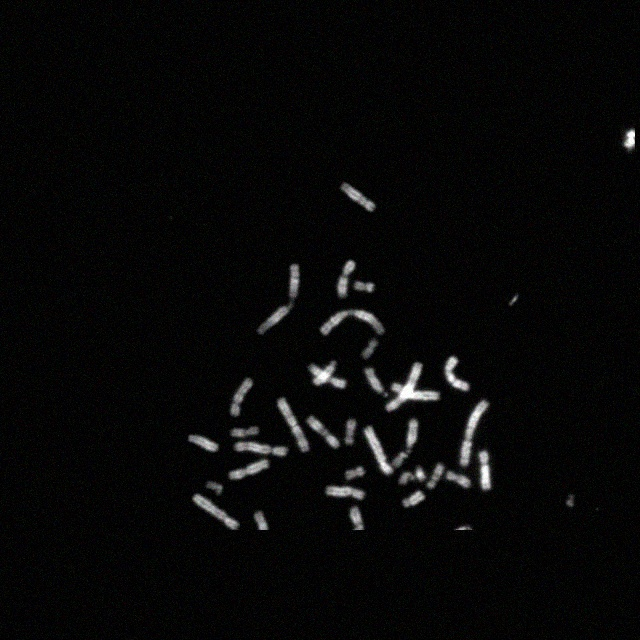chromosome: (257, 264, 298, 336), (459, 399, 489, 467), (189, 493, 239, 533), (320, 308, 384, 338), (386, 360, 422, 412), (278, 398, 308, 452), (364, 426, 394, 476), (392, 419, 420, 468), (306, 414, 340, 450), (342, 181, 376, 211), (228, 456, 270, 479), (444, 356, 470, 392), (392, 381, 438, 401), (308, 364, 346, 388), (230, 377, 252, 418), (234, 441, 288, 455), (337, 260, 355, 298), (478, 451, 494, 491), (366, 368, 388, 397), (314, 359, 338, 385), (399, 465, 425, 487), (446, 470, 472, 490), (187, 436, 218, 452), (324, 486, 364, 498), (348, 506, 367, 530), (428, 462, 444, 490), (230, 424, 260, 438), (402, 490, 423, 510), (354, 278, 376, 294), (363, 336, 379, 358), (344, 466, 366, 482), (346, 417, 356, 445), (255, 512, 269, 532), (204, 482, 223, 494)
